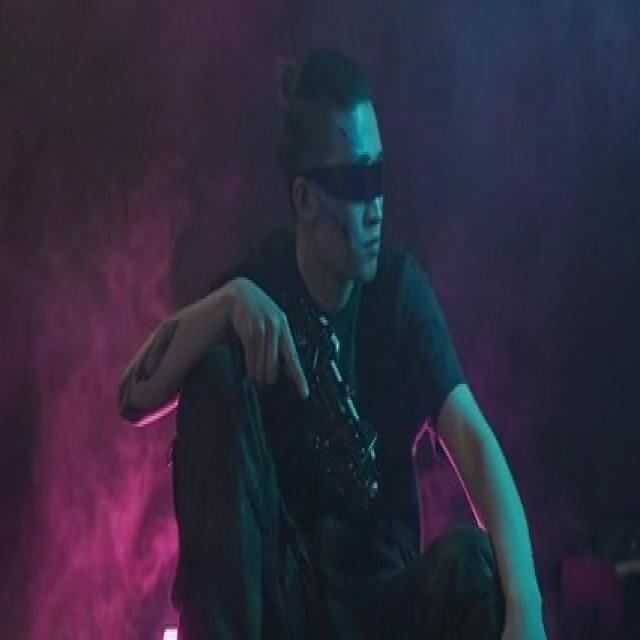Gun_Holder: (250, 280, 394, 527)
Person: (115, 0, 550, 640)
